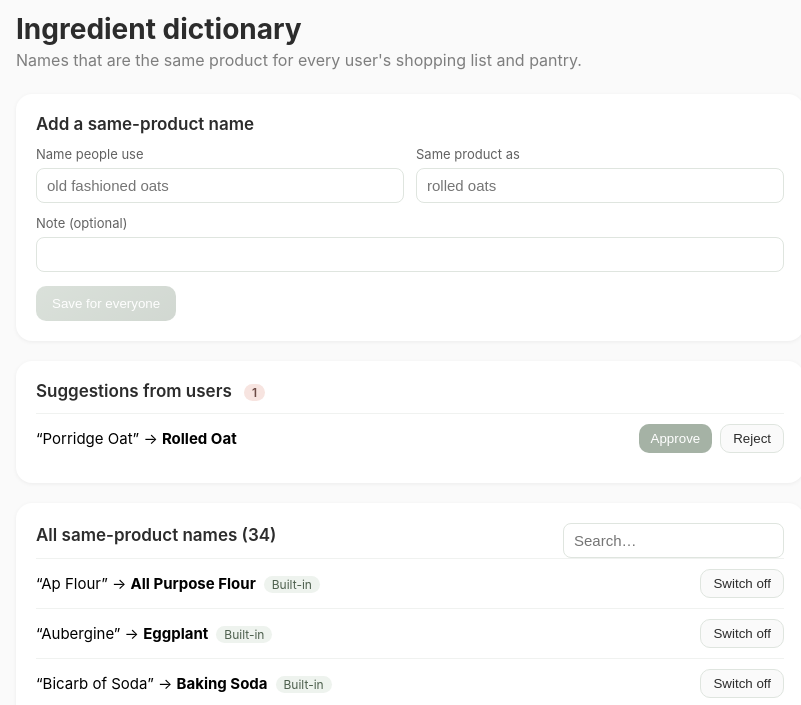
it: IngredientDictionaryPage › admins add an alias with a live preview; loops are blocked
Type "Porridge oats" into the field labelled "Name people use".
click(220, 186); type("Porridge oats")  # box [36, 168, 404, 203]
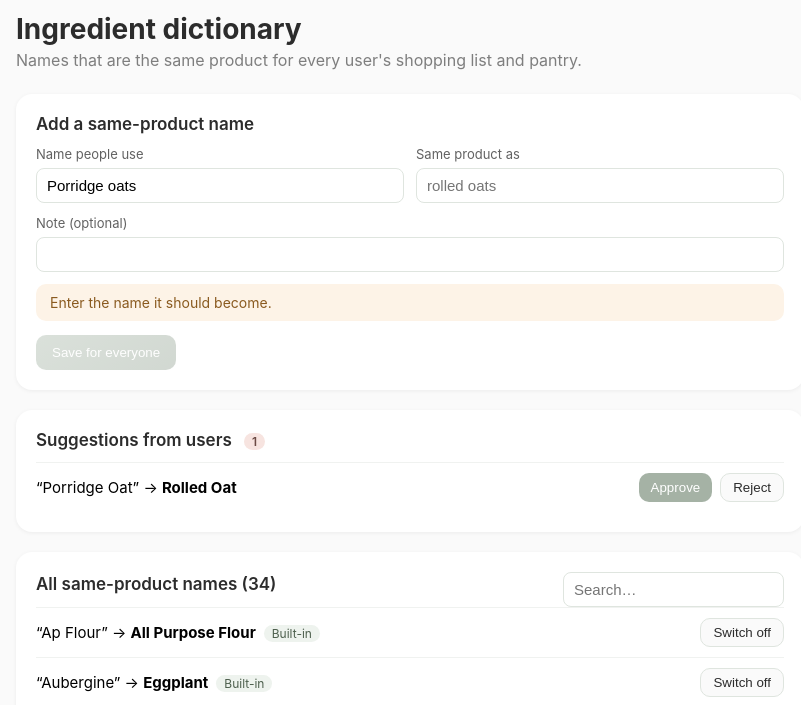
Type "old fashioned oats" into the field labelled "Same product as".
click(600, 186); type("old fashioned oats")  # box [416, 168, 784, 203]
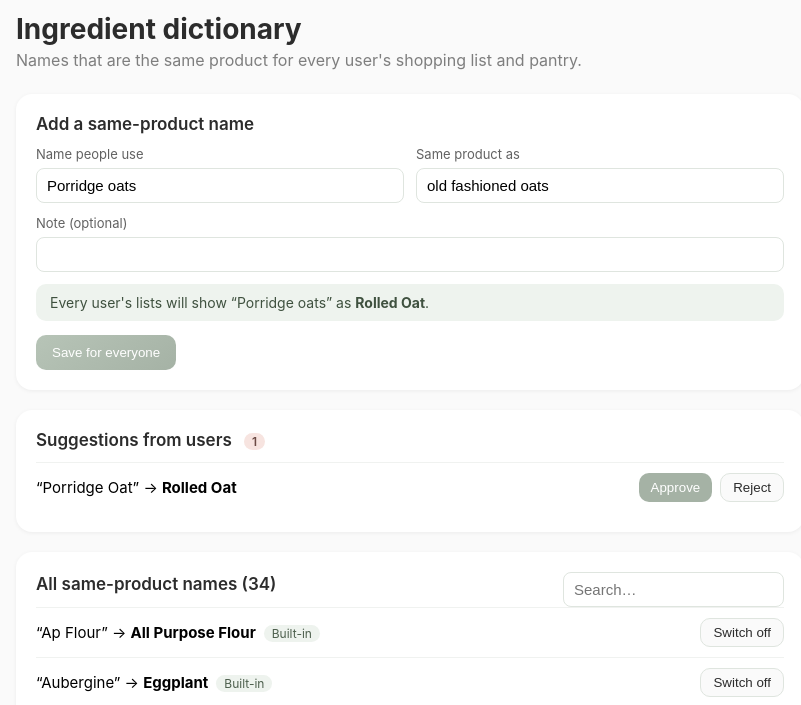
Now the text "Every user's lists will show “Porridge oats” as Rolled Oat." is shown, box [36, 284, 784, 321]
Click the button "Save for everyone".
click(106, 352)  # box [36, 335, 176, 370]
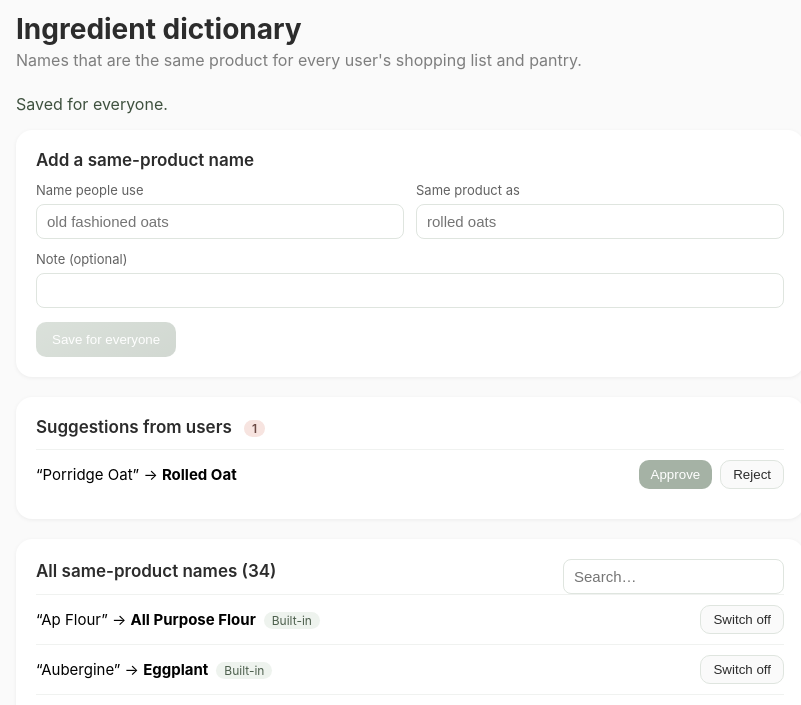
Now the message reads "Saved for everyone.", box [16, 94, 168, 114]
Type "rolled oats" into the field labelled "Name people use".
click(220, 222); type("rolled oats")  # box [36, 204, 404, 239]
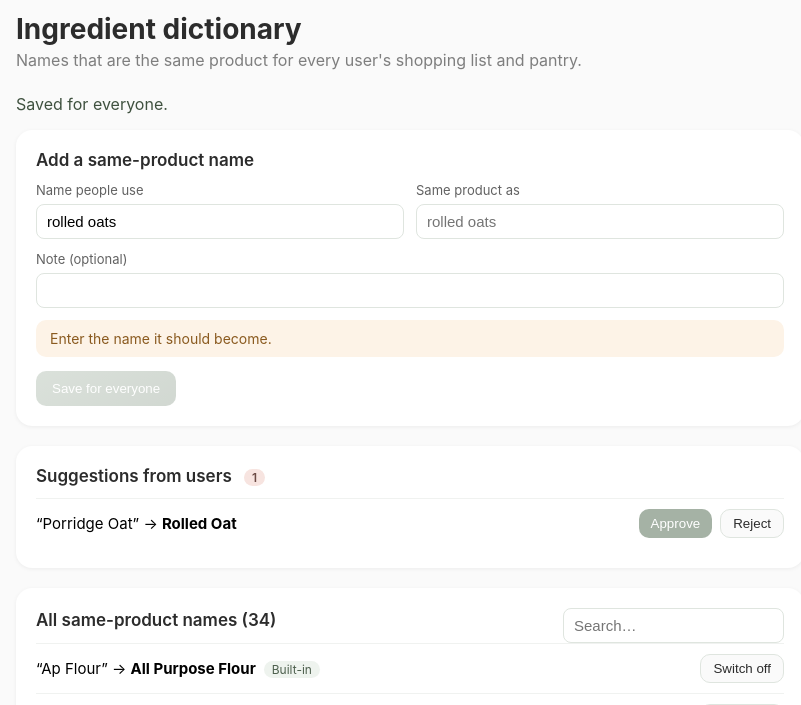
Type "old fashioned oats" into the field labelled "Same product as".
click(600, 222); type("old fashioned oats")  # box [416, 204, 784, 239]
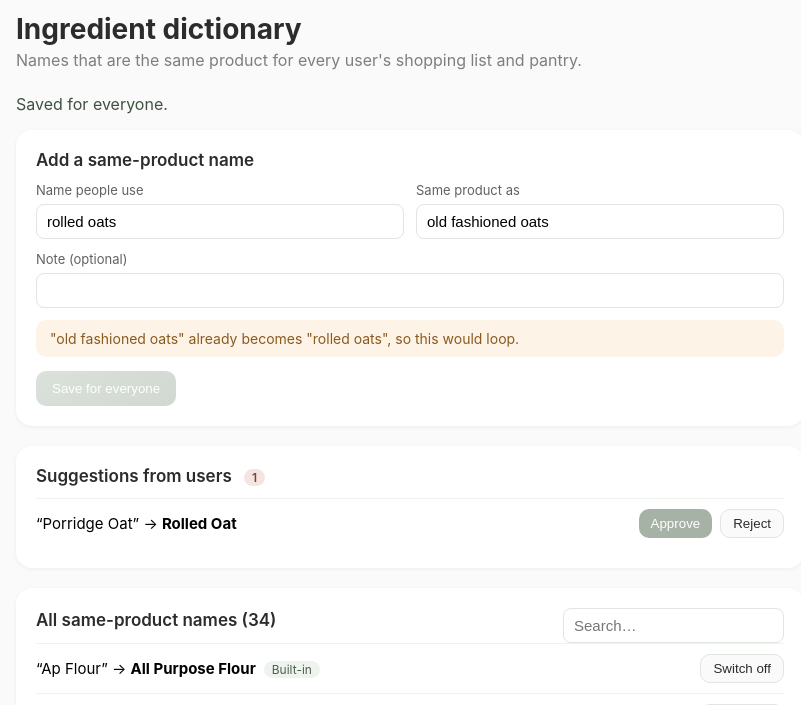
Now the button "Save for everyone" is disabled, box [36, 371, 176, 406]
Now the message "\"old fashioned oats\" already becomes \"rolled oats\", so this would loop." is shown, box [36, 320, 784, 357]
